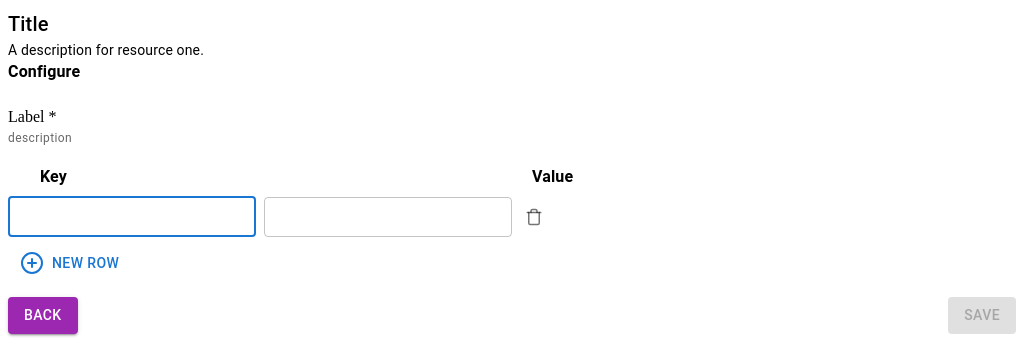
ResourceForm component › map type parameter validation › enables save button when one non empty key is specified
Step 1. Type "blah" into the 1st field → (132, 217), box [8,197,256,237]
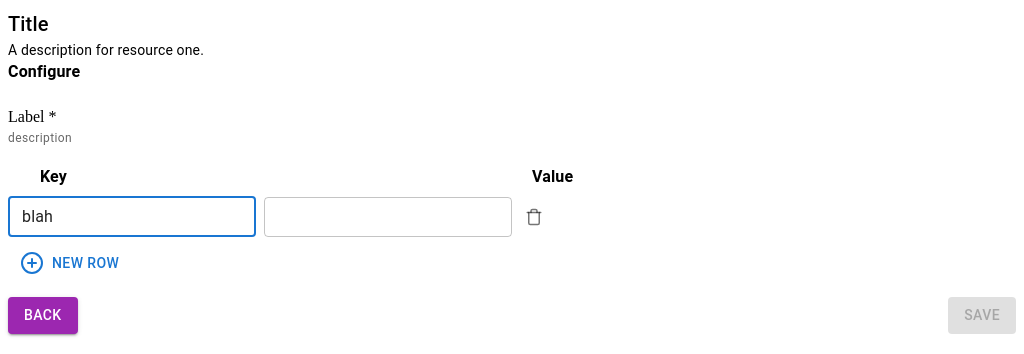
Step 2. Leave the 1st field, box [8,197,256,237]
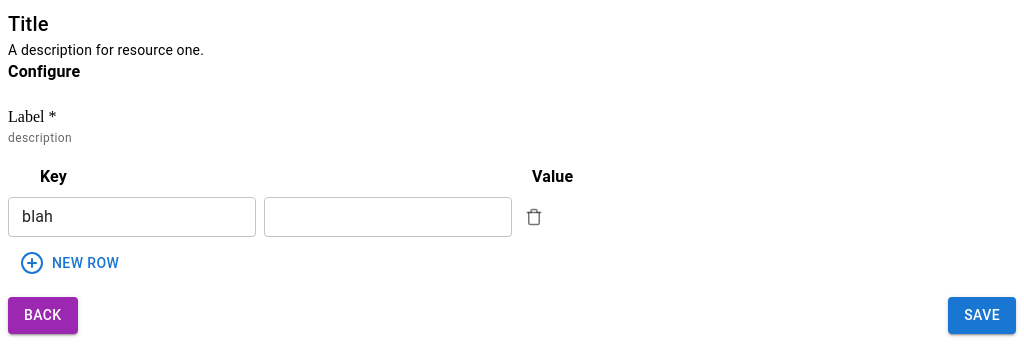
Result: the button with test id "resource-form-save" is enabled at [948,297,1016,334]
